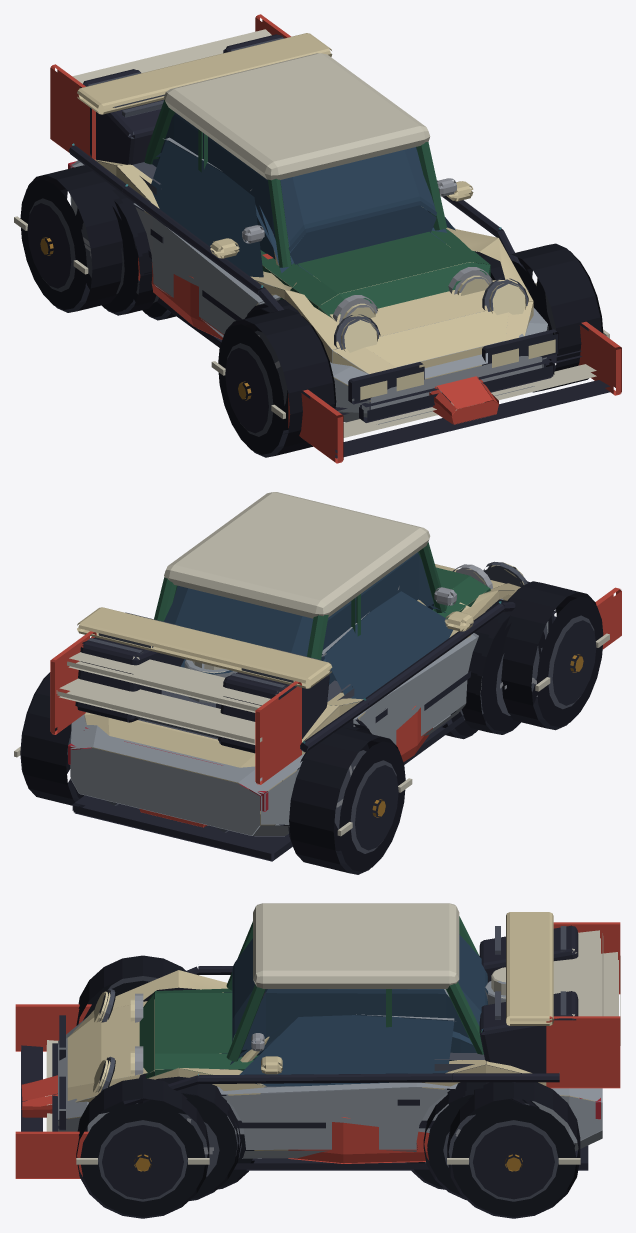
File: distant-cars.glb
The picture shows the model from 3 angles, top to bottom: view 1: azimuth 30°, elevation 25°; view 2: azimuth 150°, elevation 25°; view 3: azimuth 270°, elevation 25°; orthographic projection. The views are drawn at different scales.
Visible parts, largest first — view 1: mini, f1, delorean, porsche; view 2: f1, delorean, mini, porsche; view 3: f1, delorean, mini, porsche.
Boxes of the visible parts, left/top/right/bottom form: mini: left=134, top=53, right=492, bottom=322; f1: left=14, top=14, right=621, bottom=463; delorean: left=68, top=34, right=558, bottom=434; porsche: left=77, top=33, right=533, bottom=433; f1: left=14, top=581, right=621, bottom=874; delorean: left=68, top=581, right=556, bottom=854; mini: left=154, top=492, right=492, bottom=739; porsche: left=77, top=561, right=534, bottom=851; f1: left=15, top=922, right=620, bottom=1218; delorean: left=52, top=925, right=602, bottom=1200; mini: left=130, top=903, right=487, bottom=1189; porsche: left=66, top=912, right=594, bottom=1199.
Bounding box in the file's own units: 1.84 × 1.17 × 3.06.
